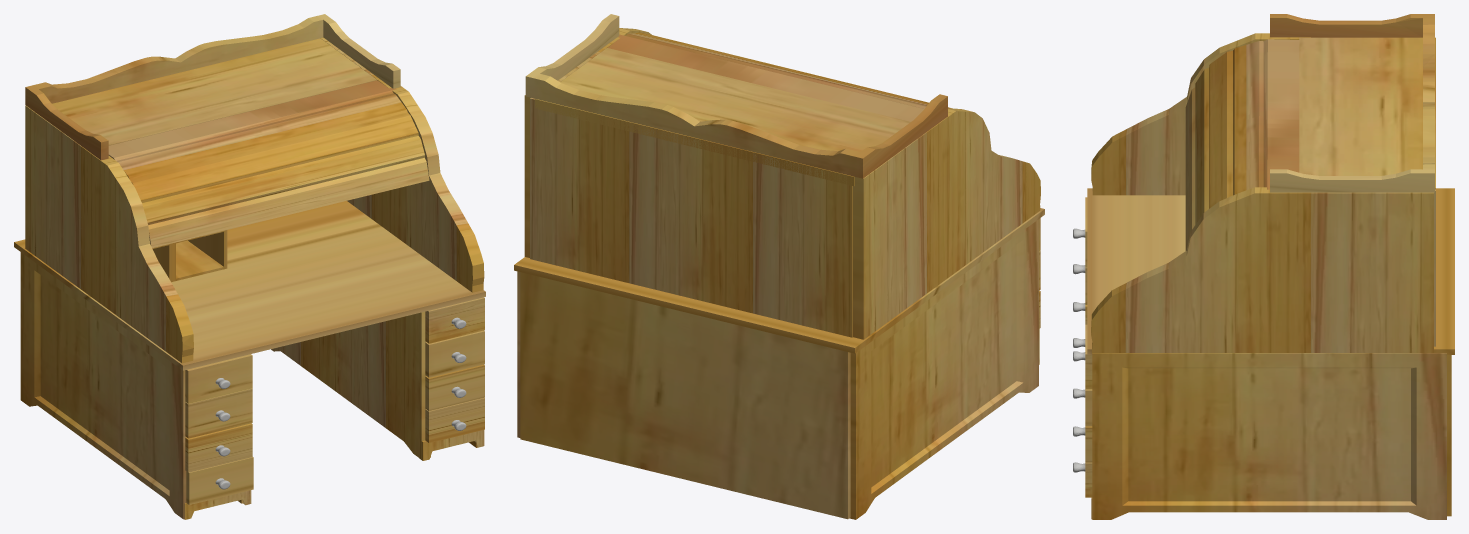
Rendered from sh-contrib-secretarys-desk.glb.
The picture shows the model from 3 angles, left to right: view 1: azimuth 30°, elevation 25°; view 2: azimuth 150°, elevation 25°; view 3: azimuth 270°, elevation 25°; orthographic projection. The views are drawn at different scales.
Parts seen in each view (by area): view 1: front, knob; view 2: front; view 3: front, knob.
Boxes of the visible parts, <box> form: front: <box>14,14,485,519</box>; knob: <box>215,317,466,489</box>; front: <box>514,14,1044,519</box>; front: <box>1085,14,1454,519</box>; knob: <box>1073,228,1085,472</box>.
Bounding box in the file's own units: 1 × 1 × 1.
Materials: 2 (1 with a texture image).
